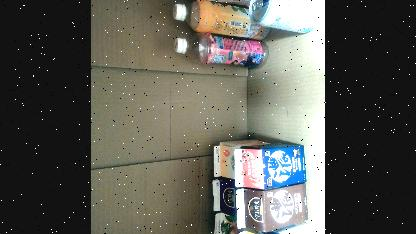Can: (249, 0, 320, 33)
Plastic Bottle: (172, 0, 271, 39), (174, 31, 268, 67)
